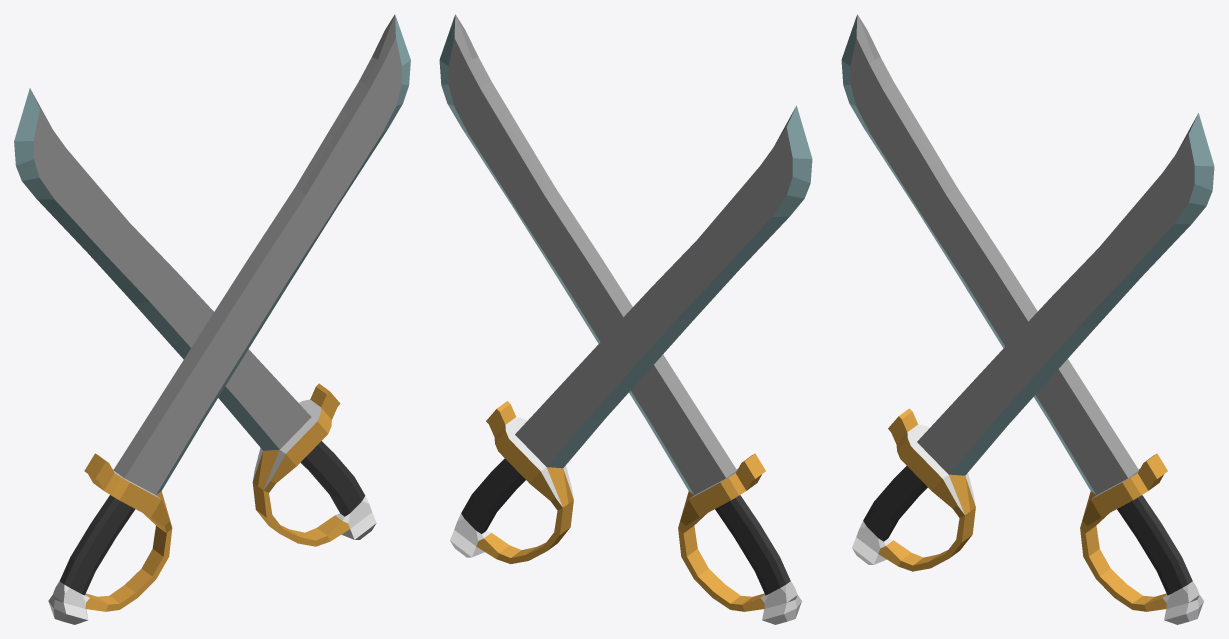
The model's file is Swords.fbx.
3 views of the same model, side by side, from view 1: azimuth 30°, elevation 25°; view 2: azimuth 150°, elevation 25°; view 3: azimuth 330°, elevation 25° (orthographic).
Parts seen in each view (by area): view 1: Sword; view 2: Sword; view 3: Sword.
Part boxes in pixels (x1,y1,x2,y2): Sword: (14, 14, 410, 624); Sword: (439, 14, 812, 624); Sword: (841, 14, 1214, 624).
Bounding box in the file's own units: 390 × 515 × 60.65.
